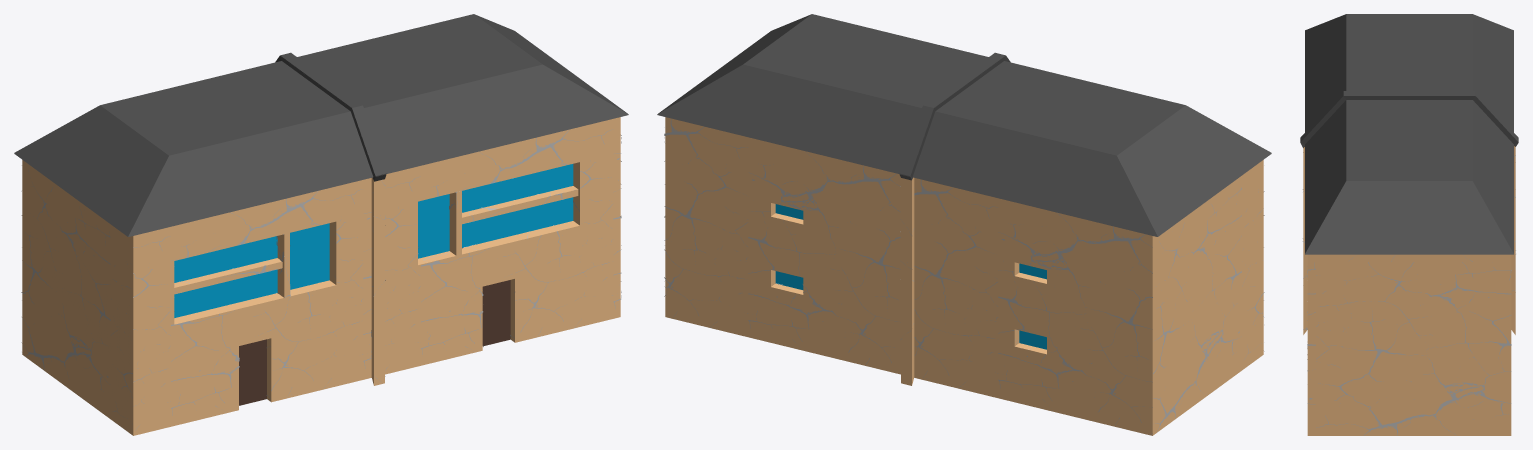
The model's file is House_02.fbx.
3 renders of one model, left to right at view 1: azimuth 30°, elevation 25°; view 2: azimuth 150°, elevation 25°; view 3: azimuth 270°, elevation 25°, orthographic. The views are drawn at different scales.
Visible parts, largest first — view 1: House_02_Cracked, House_02; view 2: House_02_Cracked, House_02; view 3: House_02_Cracked, House_02.
Boxes of the visible parts, x1,y1,x2,y2 form: House_02_Cracked: (14, 14, 628, 434); House_02: (14, 56, 628, 435); House_02_Cracked: (657, 14, 1271, 435); House_02: (657, 56, 1271, 435); House_02_Cracked: (1300, 14, 1518, 435); House_02: (1300, 96, 1518, 435).
Bounding box in the file's own units: 324 × 162 × 134.
